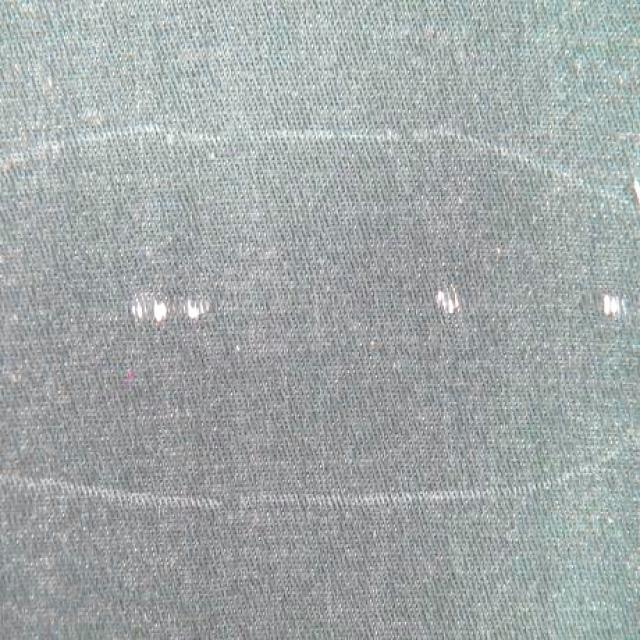Thread_other: (25, 240, 640, 390)
